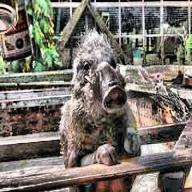boar: (53, 32, 140, 192)
